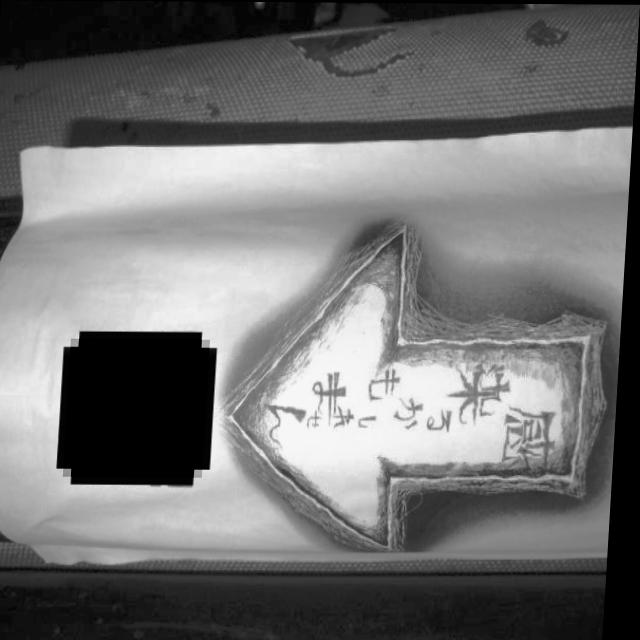qr_code: (68, 339, 213, 477)
